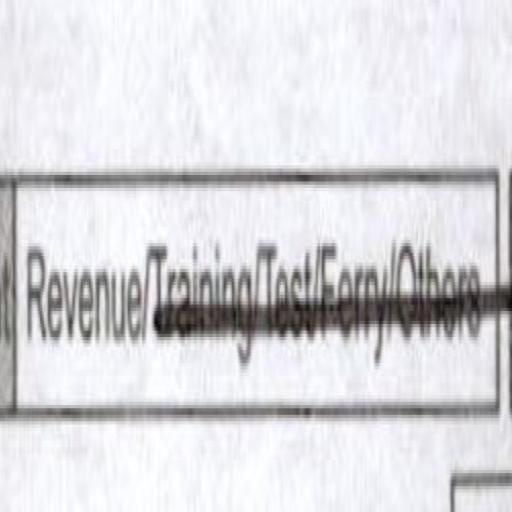check: (18, 180, 143, 418)
